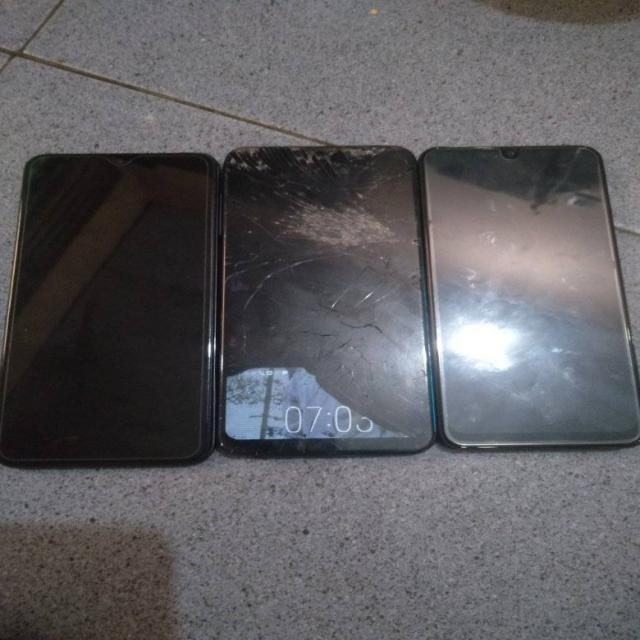phone: (16, 153, 209, 456), (225, 147, 412, 456), (435, 146, 609, 447)
